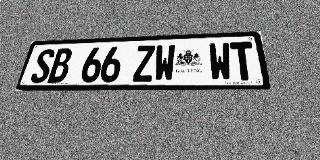6: (99, 46, 123, 82), (80, 47, 104, 82)
B: (47, 48, 73, 83)
S: (29, 49, 56, 83)
T: (230, 42, 257, 81)
W: (208, 42, 233, 81), (154, 44, 175, 82)
Z: (133, 45, 155, 82)
